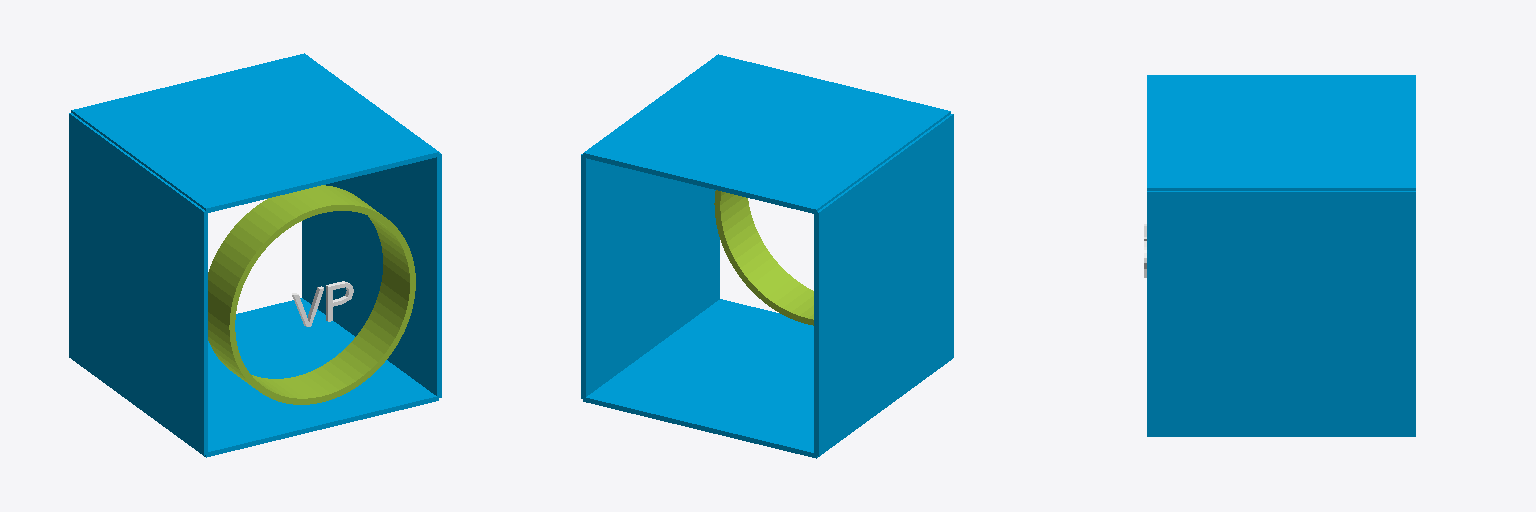
The model's file is CuboVP.obj.
3 renders of one model, left to right at view 1: azimuth 30°, elevation 25°; view 2: azimuth 150°, elevation 25°; view 3: azimuth 270°, elevation 25°, orthographic.
Parts seen in each view (by area): view 1: Regular Plane5_copy8, Regular Plane5_copy11, Regular Plane5_copy9, Tube7, Regular Plane5_copy10, text8; view 2: Regular Plane5_copy8, Regular Plane5_copy11, Regular Plane5_copy9, Regular Plane5_copy10, Tube7; view 3: Regular Plane5_copy9, Regular Plane5_copy11.
Boxes of the visible parts, x1=… form: Regular Plane5_copy8: x1=69, y1=113, x2=207, y2=455; Regular Plane5_copy11: x1=71, y1=53, x2=438, y2=213; Regular Plane5_copy9: x1=302, y1=152, x2=441, y2=398; Tube7: x1=208, y1=185, x2=415, y2=404; Regular Plane5_copy10: x1=73, y1=298, x2=438, y2=457; text8: x1=292, y1=281, x2=353, y2=326; Regular Plane5_copy8: x1=814, y1=114, x2=953, y2=456; Regular Plane5_copy11: x1=583, y1=54, x2=950, y2=214; Regular Plane5_copy9: x1=581, y1=154, x2=719, y2=398; Regular Plane5_copy10: x1=583, y1=299, x2=950, y2=458; Tube7: x1=714, y1=190, x2=813, y2=325; Regular Plane5_copy9: x1=1147, y1=191, x2=1415, y2=435; Regular Plane5_copy11: x1=1147, y1=75, x2=1415, y2=190.
Bounding box in the file's own units: 10.2 × 10.2 × 10.1.